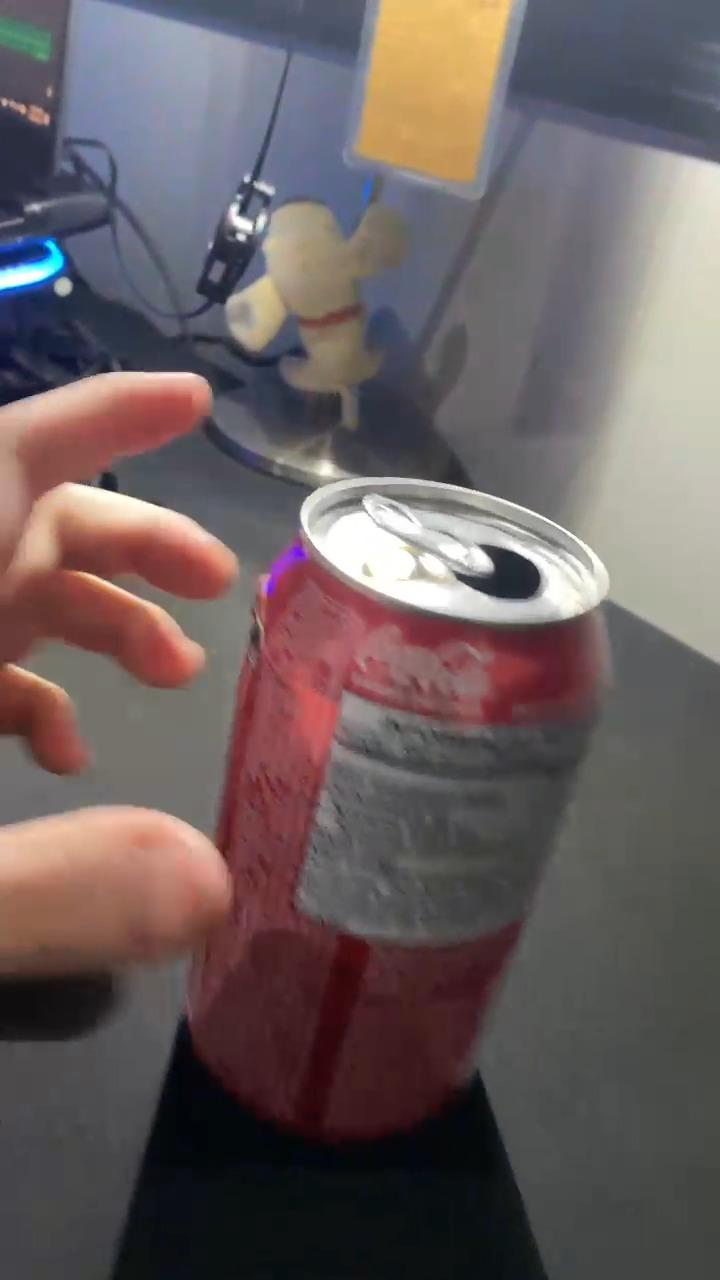coke: (179, 484, 609, 1141)
